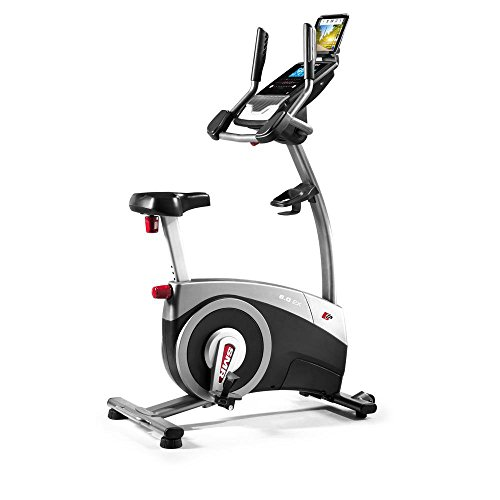gym_bike: (103, 11, 385, 464)
